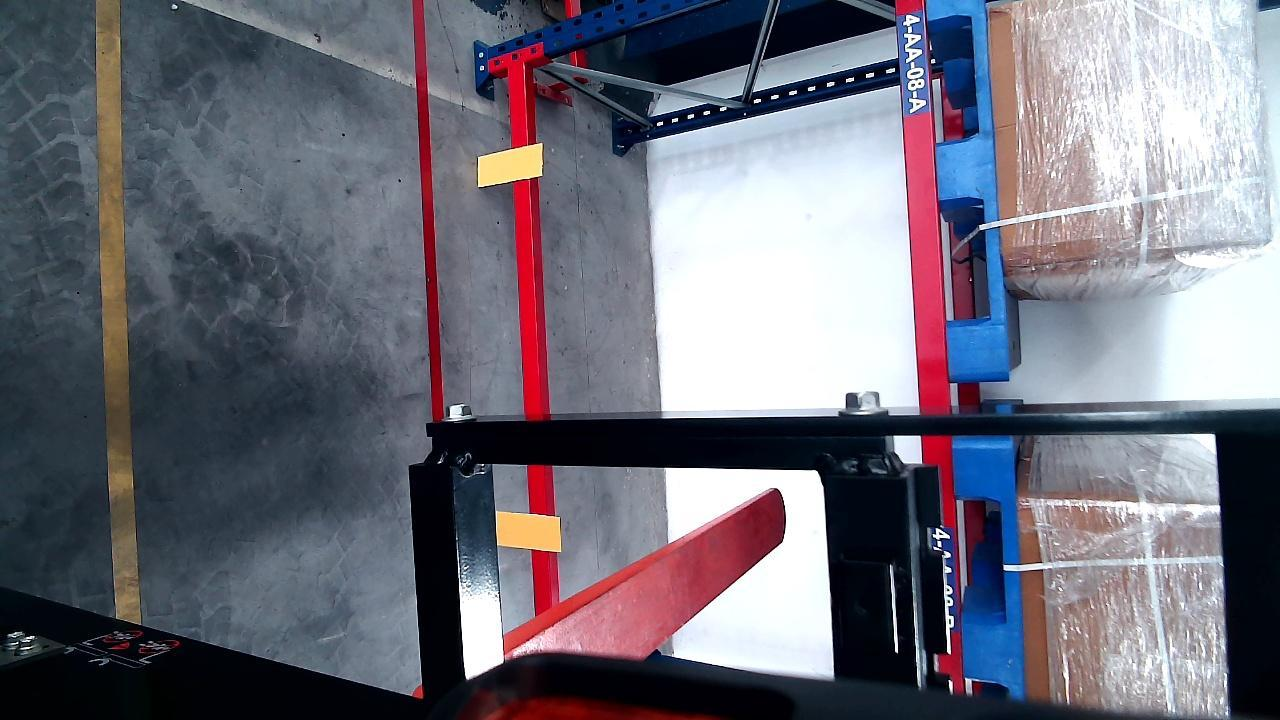red_line: (414, 0, 446, 427)
